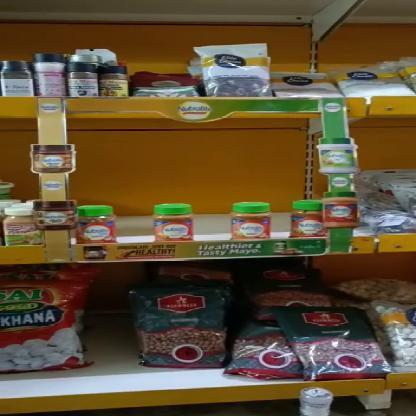Nutralite TANDOORI MAYO 300g-275g-25g-: (155, 201, 199, 245), (229, 202, 273, 242), (78, 203, 116, 249), (288, 198, 324, 239)
